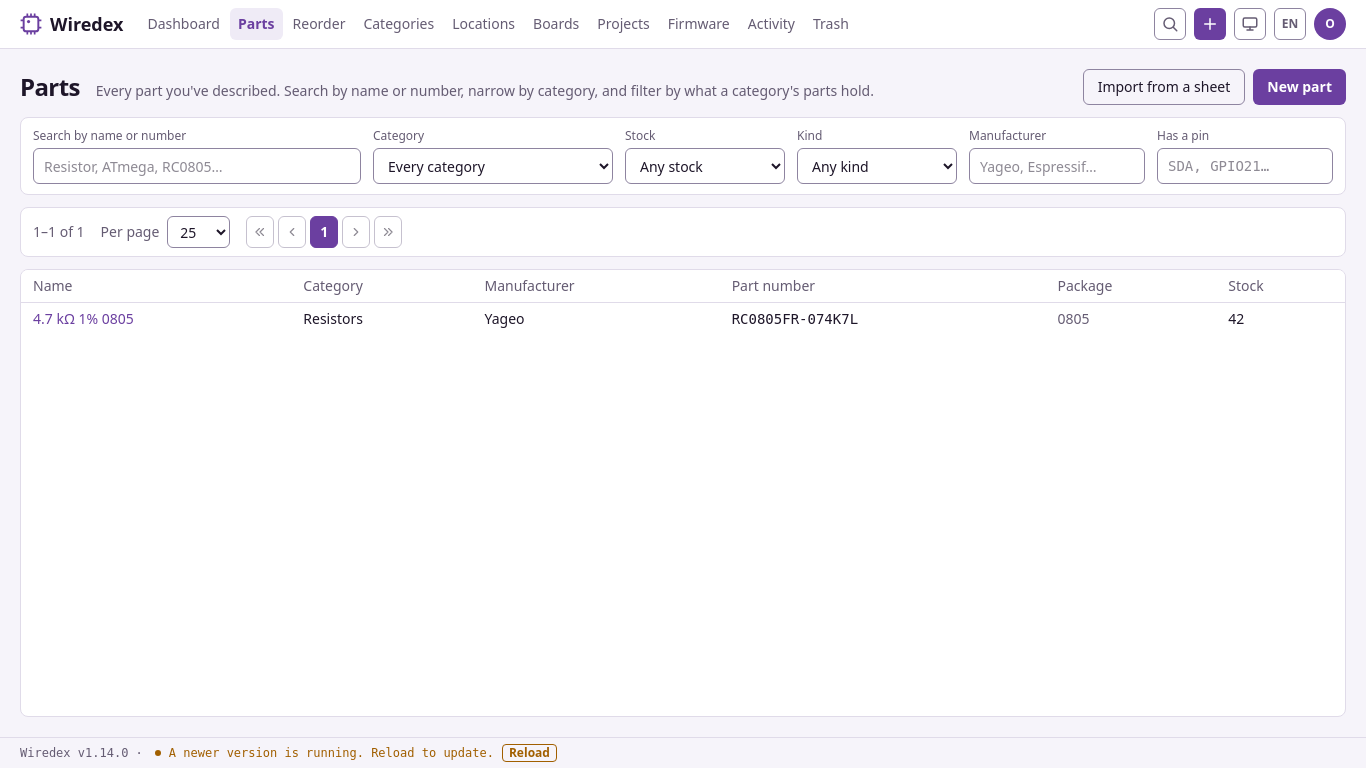
Test: PartsPage › says when nothing matches and offers to clear the filters
The width and height of the screenshot is (1366, 768).
Check: the column heading "4.7 kΩ 1% 0805" is shown, box [21,303,291,335]
In the search field labelled "Search by name or number": (197, 166) [33,148,361,184], type "diode"
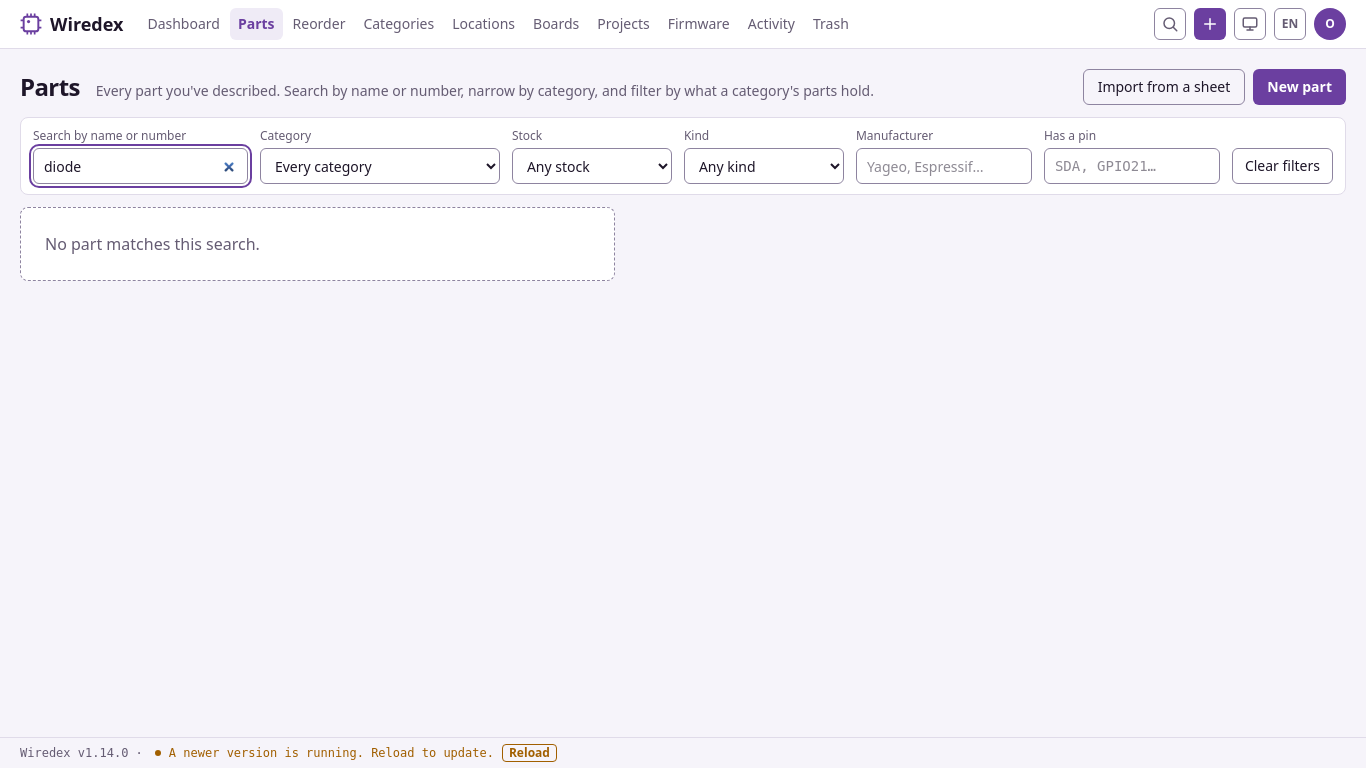
Check: the text "No part matches this search." is shown, box [45,232,260,256]
Click the button "Clear filters": (1282, 166) [1232,148,1333,184]
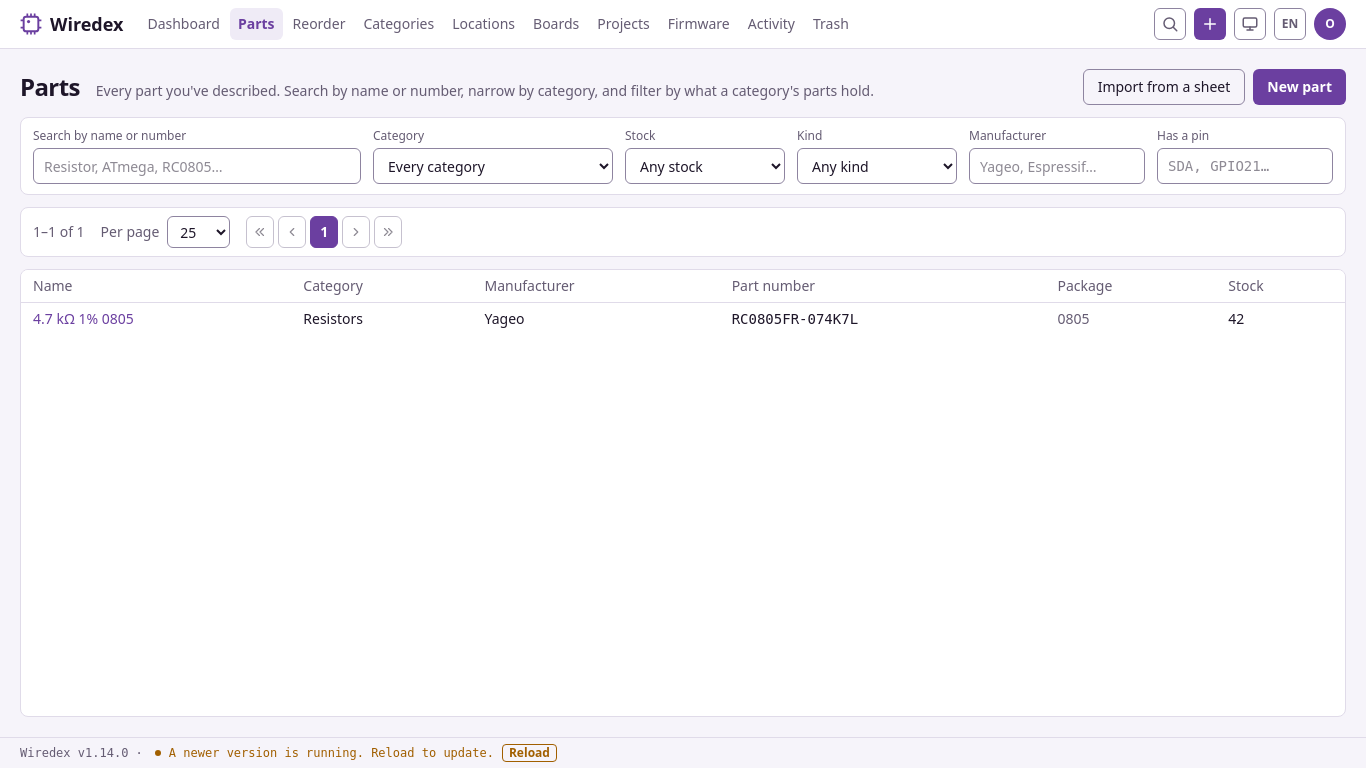
Check: the column heading "4.7 kΩ 1% 0805" is shown, box [21,303,291,335]
